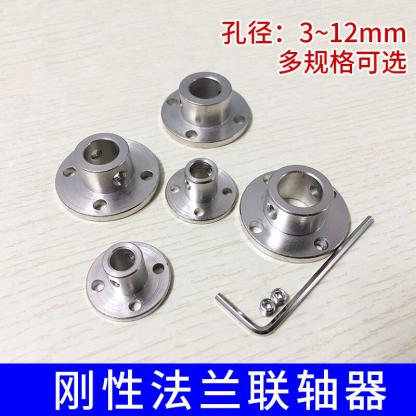FOD: (237, 157, 355, 266), (51, 129, 164, 226), (159, 66, 254, 152), (82, 240, 175, 322), (161, 152, 237, 228)
